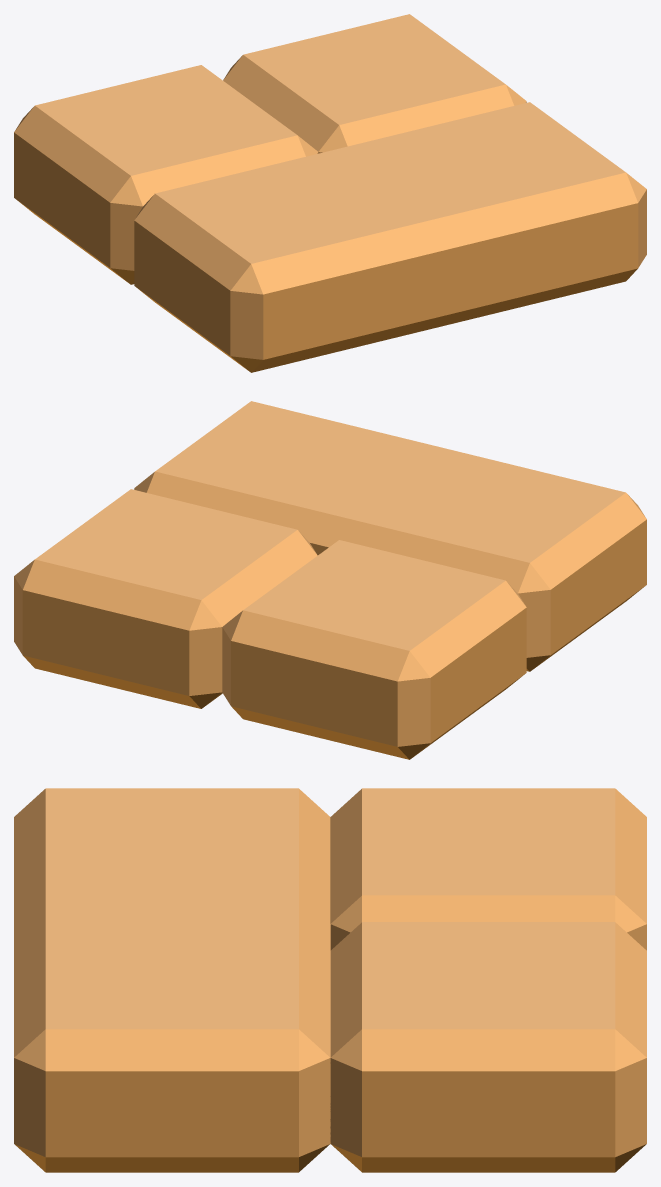
The model's file is m_kub_clay_flatMixed.FBX.
The picture shows the model from 3 angles, top to bottom: view 1: azimuth 30°, elevation 25°; view 2: azimuth 150°, elevation 25°; view 3: azimuth 270°, elevation 25°; orthographic projection. The views are drawn at different scales.
Parts seen in each view (by area): view 1: m_kub_clay_flatMixed; view 2: m_kub_clay_flatMixed; view 3: m_kub_clay_flatMixed.
Part boxes in pixels (x1,y1,x2,y2): m_kub_clay_flatMixed: (14, 14, 646, 372); m_kub_clay_flatMixed: (14, 401, 646, 759); m_kub_clay_flatMixed: (14, 788, 646, 1172).
Size of the model in its own units: 2 by 0.5 by 2.
